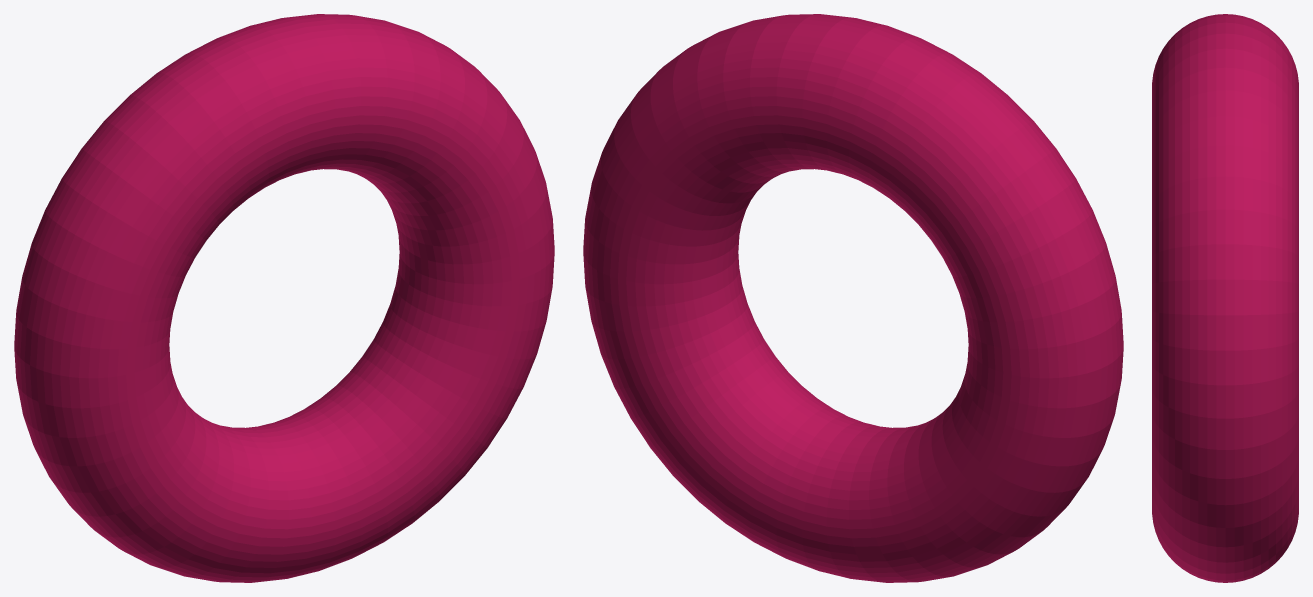
3 views of the same model, side by side, from view 1: azimuth 30°, elevation 25°; view 2: azimuth 150°, elevation 25°; view 3: azimuth 270°, elevation 25° (orthographic). The views are drawn at different scales.
Visible parts, largest first — view 1: world; view 2: world; view 3: world.
Boxes of the visible parts, x1,y1,x2,y2 form: world: [14, 14, 554, 582]; world: [583, 14, 1123, 582]; world: [1152, 14, 1298, 582].
Bounding box in the file's own units: 38.67 × 38.59 × 9.98.
